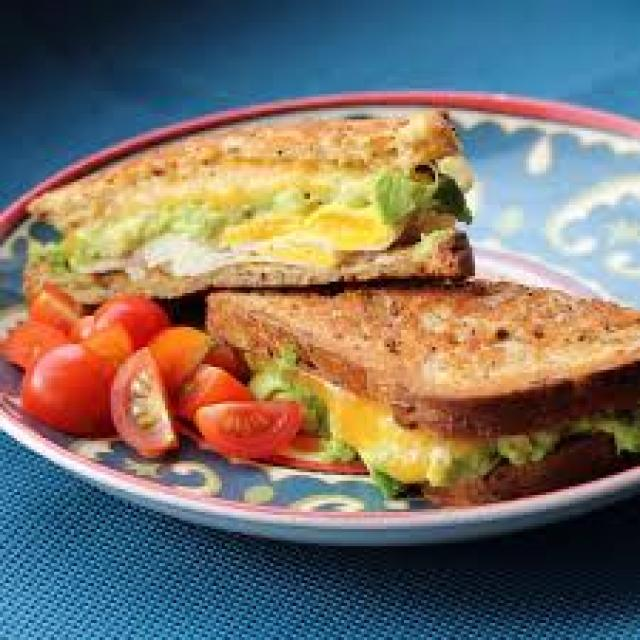Sandwich: (31, 138, 640, 494)
